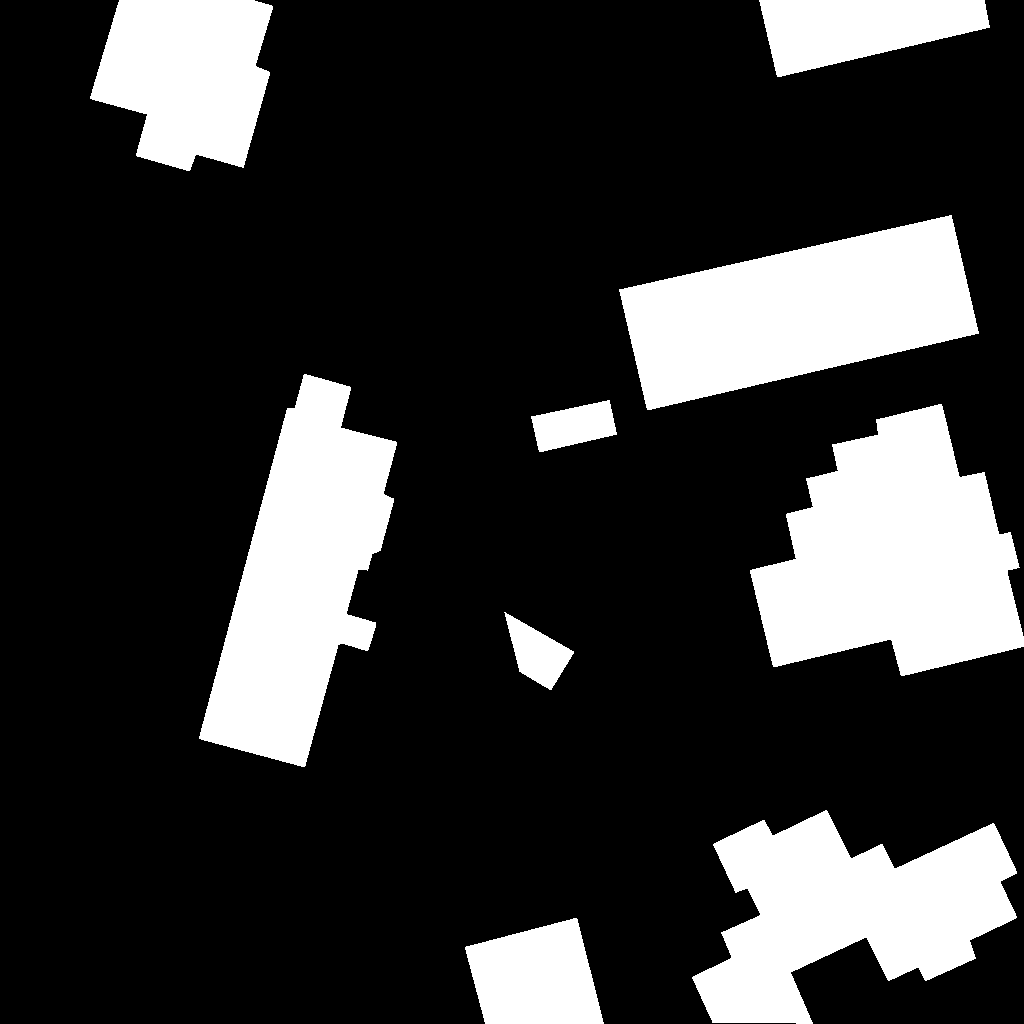building: (199, 374, 398, 768), (750, 404, 1024, 677), (619, 215, 980, 411), (692, 810, 1018, 1024), (90, 0, 274, 172), (759, 0, 991, 78), (465, 918, 605, 1024), (504, 612, 575, 691), (531, 400, 618, 453)
